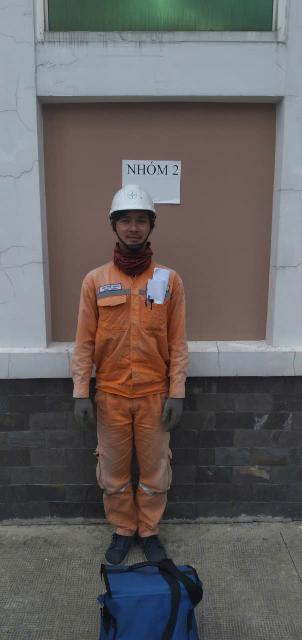gloves: (154, 390, 203, 440), (63, 390, 106, 429)
helmet: (95, 173, 163, 223)
shoes: (138, 517, 187, 572), (93, 513, 139, 569)
